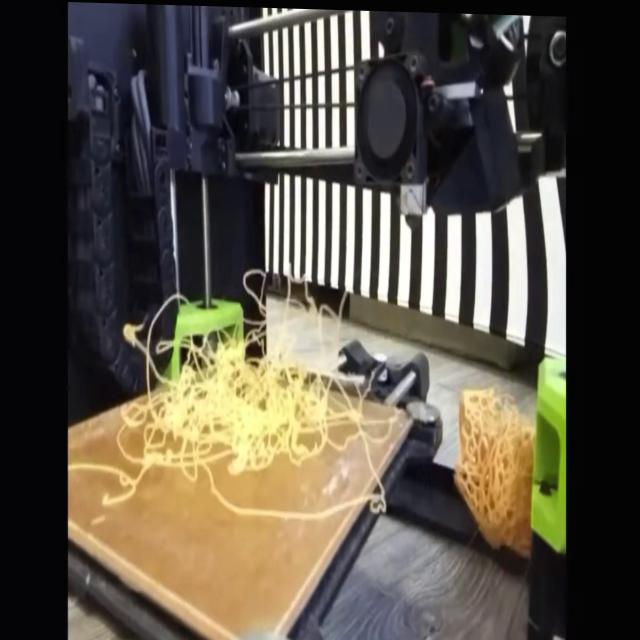spaghetti: (124, 277, 383, 537)
